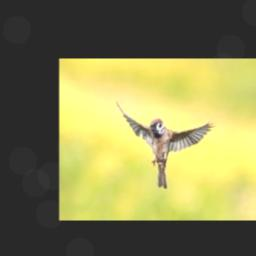Sparrow: (116, 100, 215, 188)
